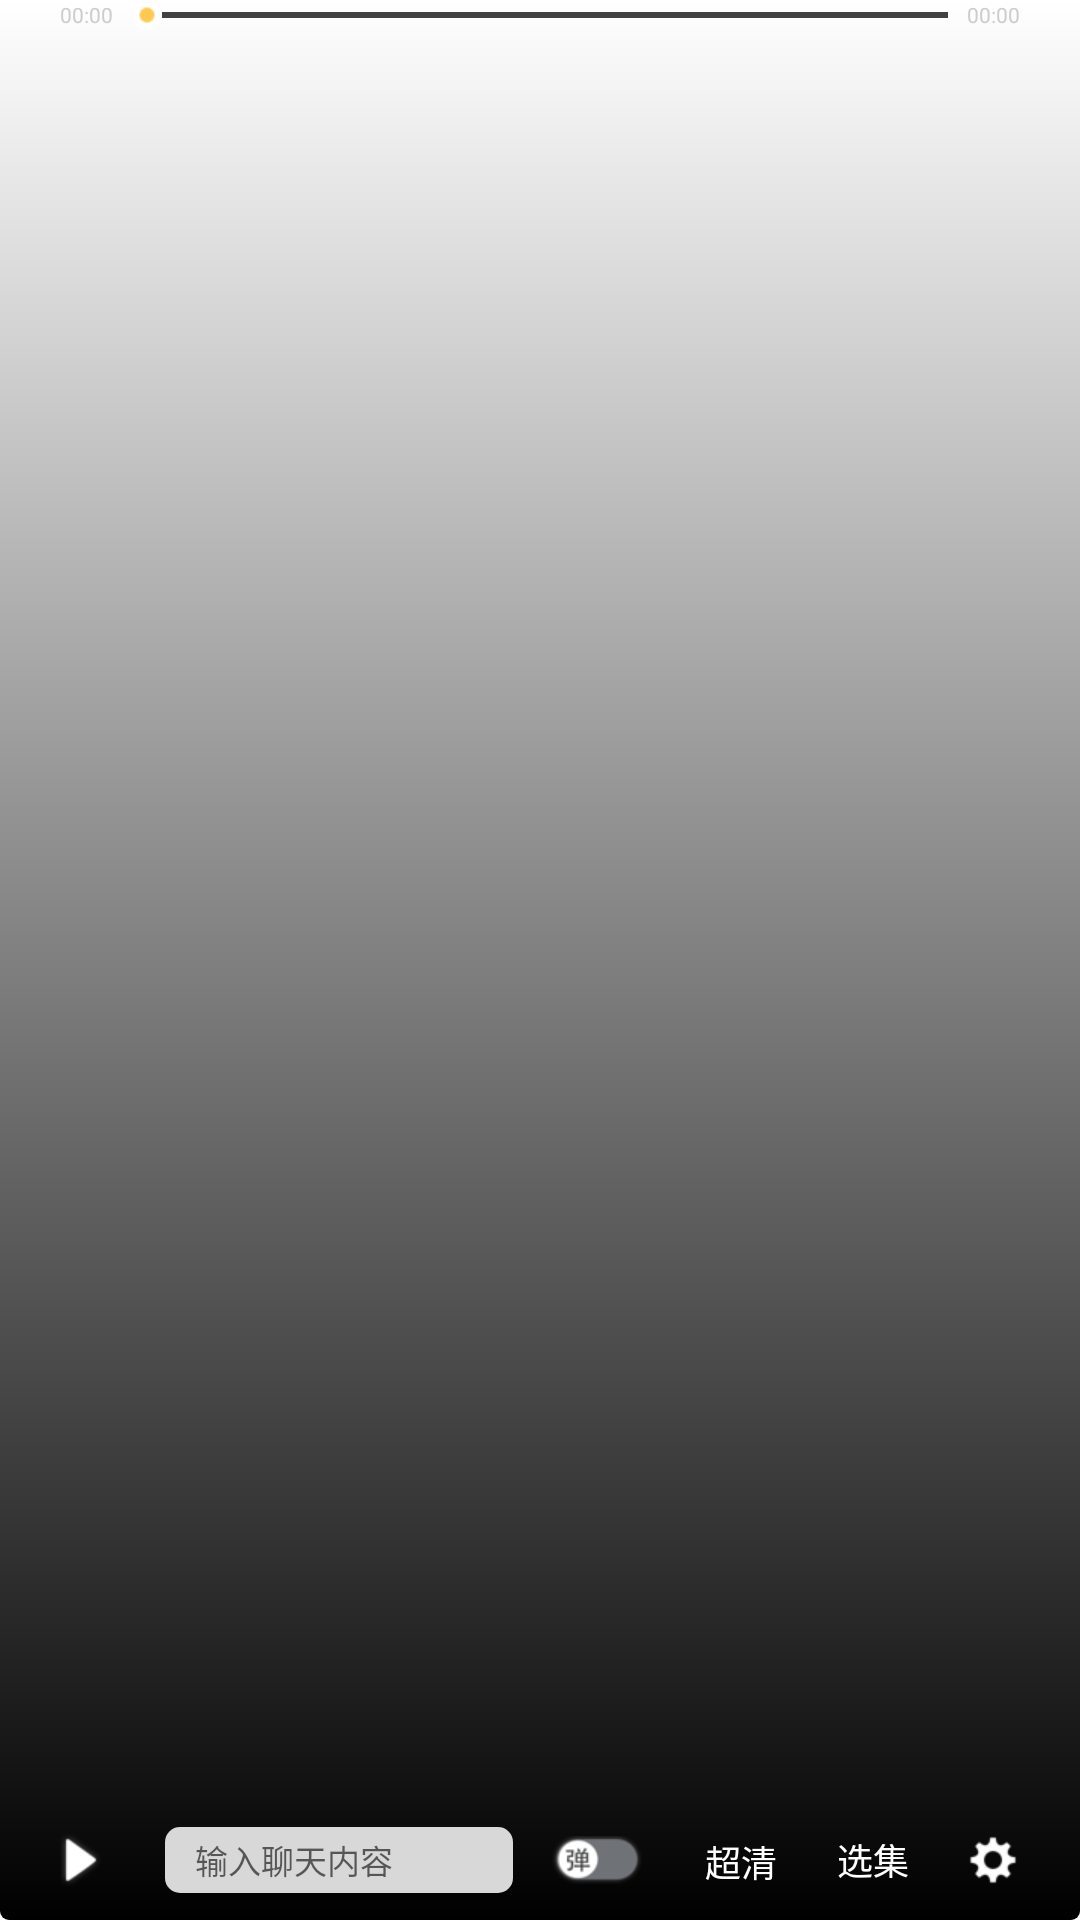

Screen size 1080×1920. Icon name, then its box in pixels as (x1, y1, x2, y2):
danmu setting: (970, 1837, 1016, 1883)
